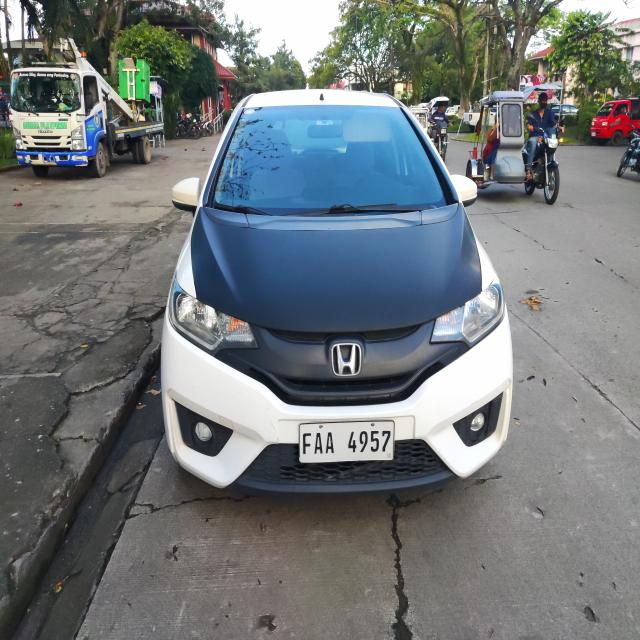plate: (296, 418, 396, 466)
